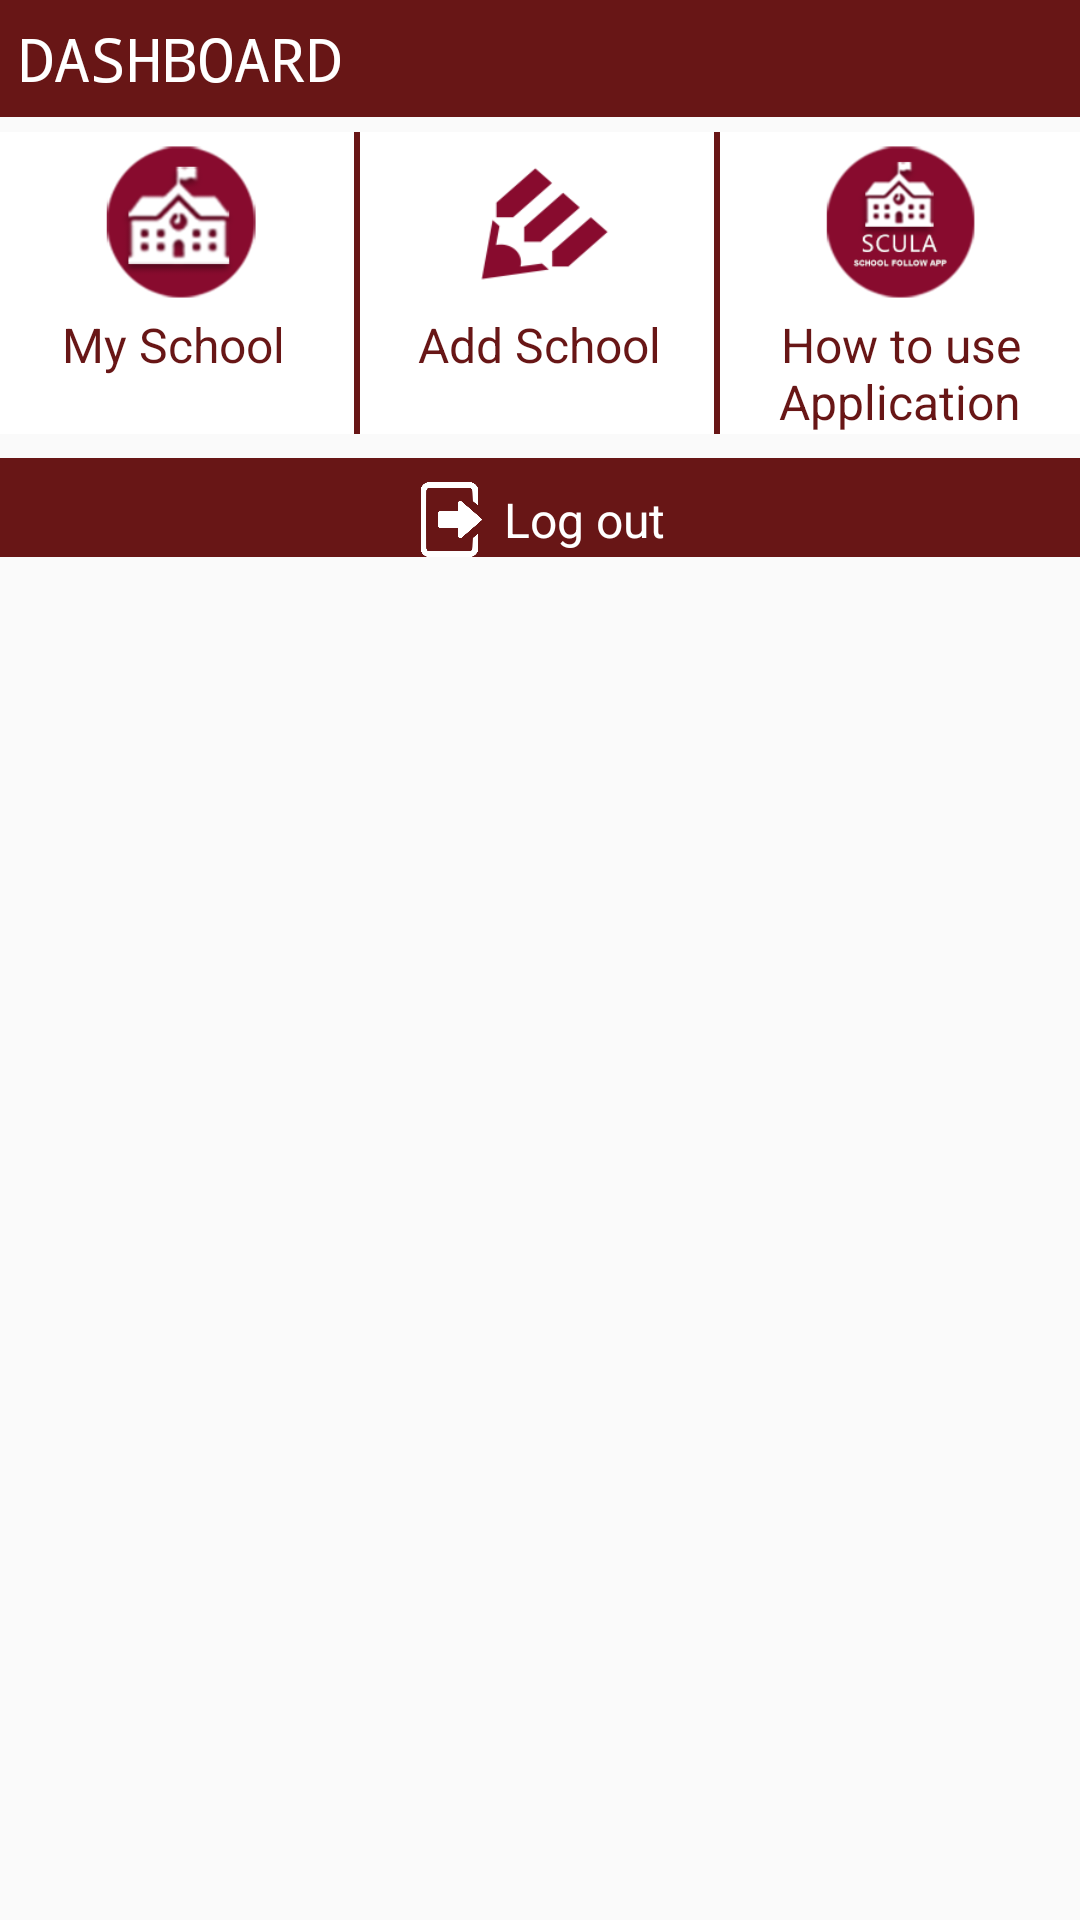

Icons on this 1080 × 1920 Android screen, each with the point to tap as [x,y]:
school building: [181,222]
